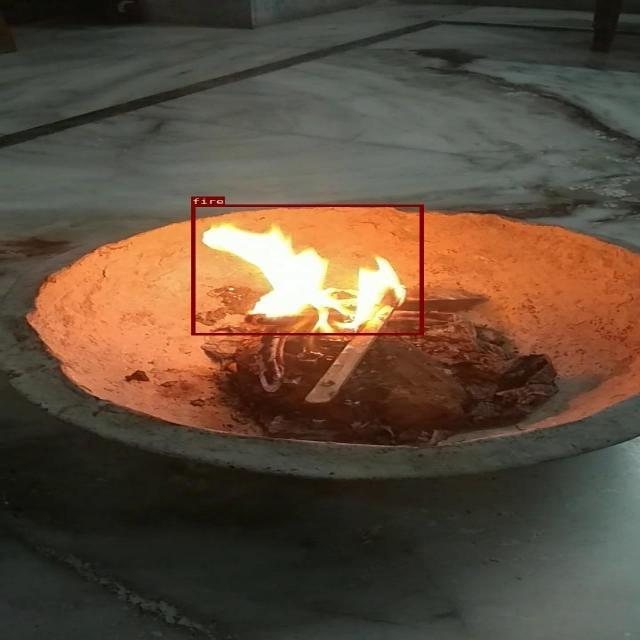fire: (191, 204, 423, 335)
